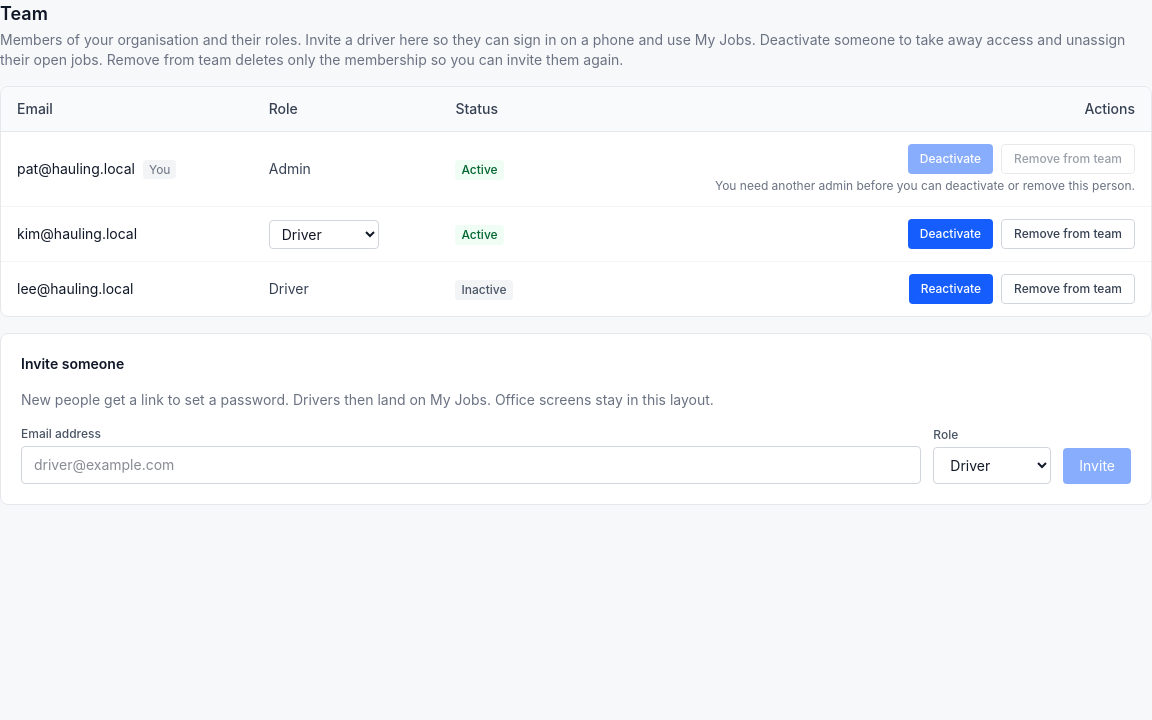
Scenario: TeamSection › warns that open jobs will be unassigned before removing a member
This screenshot has width=1152, height=720.
Check: the text "kim@hauling.local" is shown, box [17, 225, 137, 242]
Click the button "Remove from team" in the row of "kim@hauling.local" at {"x": 1068, "y": 234}, box [1001, 219, 1135, 249]
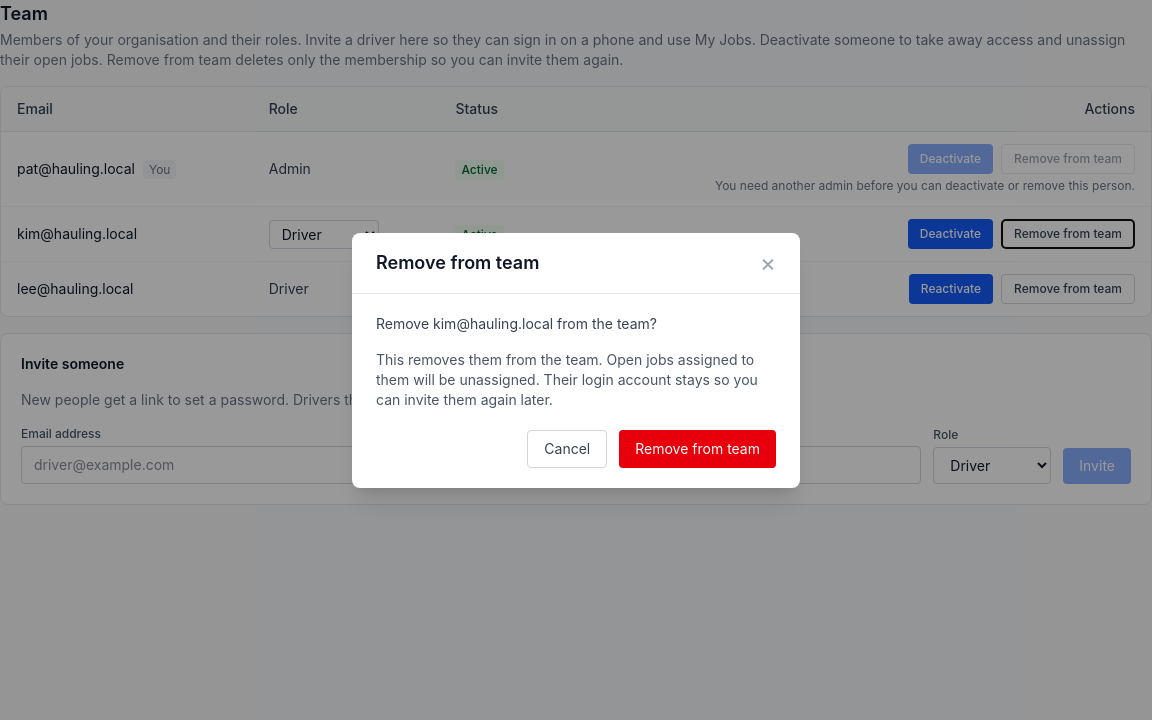
Check: the text "Their login account stays so you can invite them again later" is shown, box [376, 350, 758, 408]
Click the button "Remove from team" at {"x": 698, "y": 448}, box [619, 430, 776, 468]
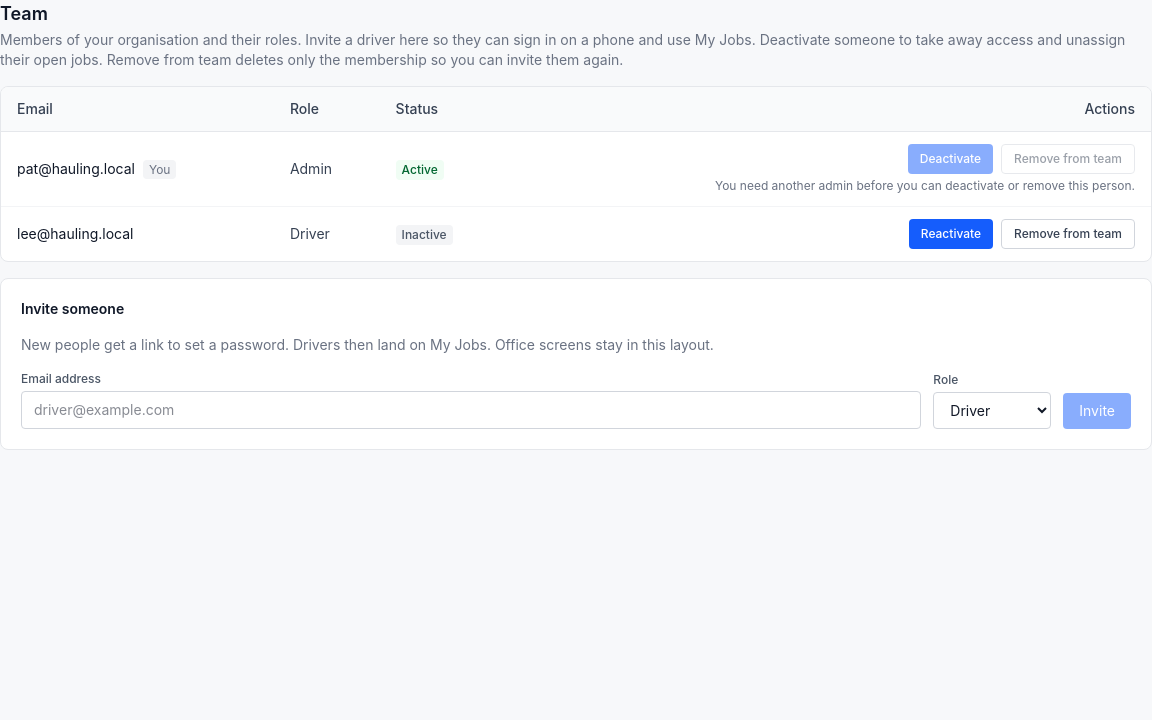
Check: the text "kim@hauling.local" is gone
